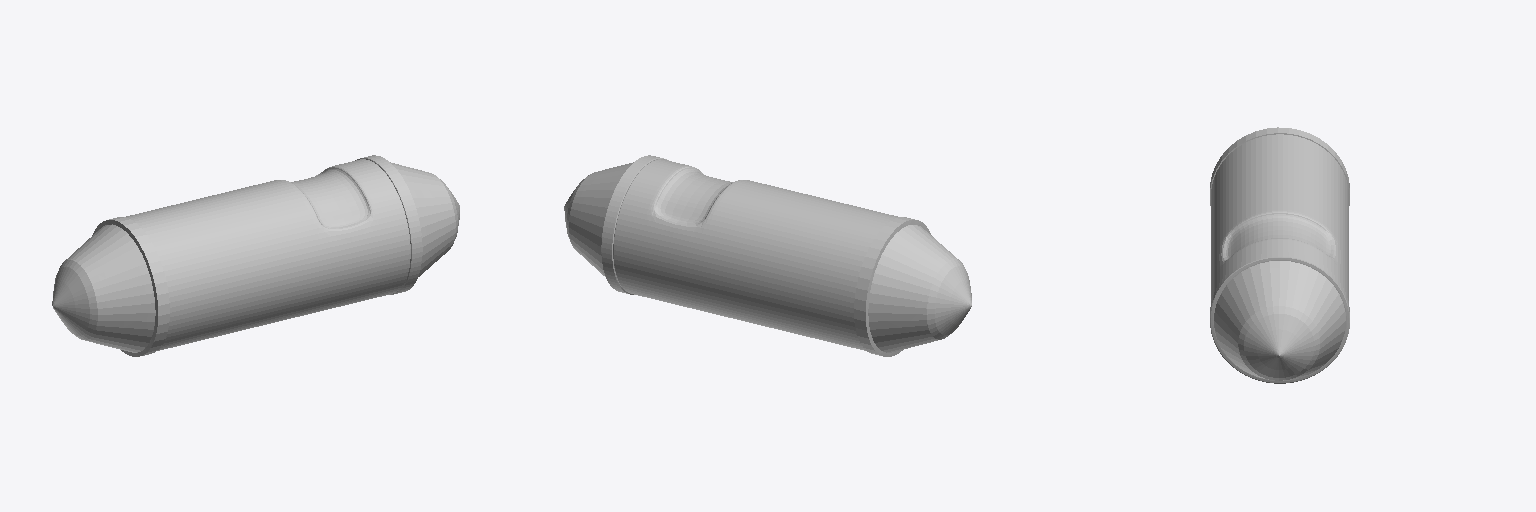
The model's file is pencil-05.obj.
3 views of the same model, side by side, from view 1: azimuth 30°, elevation 25°; view 2: azimuth 150°, elevation 25°; view 3: azimuth 270°, elevation 25° (orthographic).
Visible parts, largest first — view 1: pencil_round_track_smooth_2 pencil_body, pencil_eraser pencil_round_track_smooth_2, pencil_round_track_smooth_2 pencil_tip, pencil_round_track_smooth_2 pencil_ring2, pencil_round_track_smooth_2 pencil_ring1; view 2: pencil_round_track_smooth_2 pencil_body, pencil_eraser pencil_round_track_smooth_2, pencil_round_track_smooth_2 pencil_tip, pencil_round_track_smooth_2 pencil_ring2, pencil_round_track_smooth_2 pencil_ring1; view 3: pencil_round_track_smooth_2 pencil_body, pencil_round_track_smooth_2 pencil_tip, pencil_round_track_smooth_2 pencil_ring1, pencil_round_track_smooth_2 pencil_ring2.
Boxes of the visible parts, x1=… form: pencil_round_track_smooth_2 pencil_body: x1=126, y1=159, x2=410, y2=350; pencil_eraser pencil_round_track_smooth_2: x1=52, y1=224, x2=155, y2=352; pencil_round_track_smooth_2 pencil_tip: x1=390, y1=162, x2=459, y2=276; pencil_round_track_smooth_2 pencil_ring2: x1=92, y1=217, x2=169, y2=356; pencil_round_track_smooth_2 pencil_ring1: x1=355, y1=155, x2=422, y2=294; pencil_round_track_smooth_2 pencil_body: x1=613, y1=159, x2=897, y2=350; pencil_eraser pencil_round_track_smooth_2: x1=868, y1=225, x2=971, y2=352; pencil_round_track_smooth_2 pencil_tip: x1=564, y1=162, x2=633, y2=276; pencil_round_track_smooth_2 pencil_ring2: x1=854, y1=217, x2=931, y2=356; pencil_round_track_smooth_2 pencil_ring1: x1=601, y1=155, x2=668, y2=294; pencil_round_track_smooth_2 pencil_body: x1=1211, y1=134, x2=1348, y2=300; pencil_round_track_smooth_2 pencil_tip: x1=1214, y1=261, x2=1345, y2=380; pencil_round_track_smooth_2 pencil_ring1: x1=1210, y1=251, x2=1349, y2=383; pencil_round_track_smooth_2 pencil_ring2: x1=1210, y1=127, x2=1349, y2=205.
Size of the model in its own units: 0.2131 by 0.0636 by 0.0636.